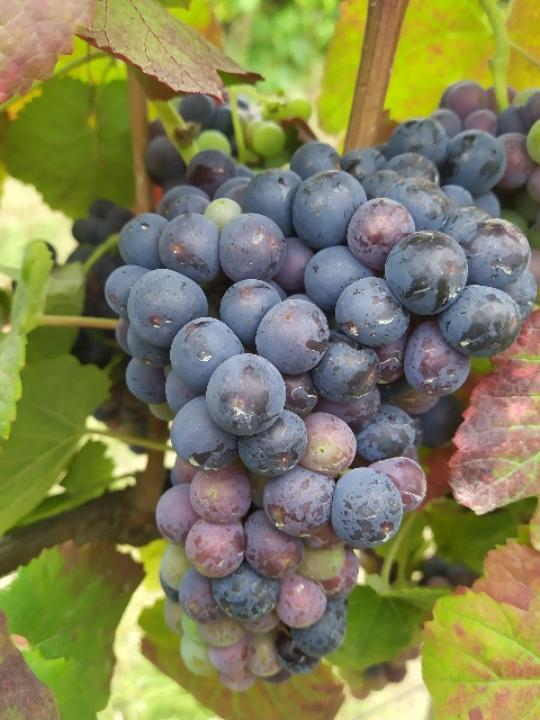grape: (102, 144, 540, 693)
